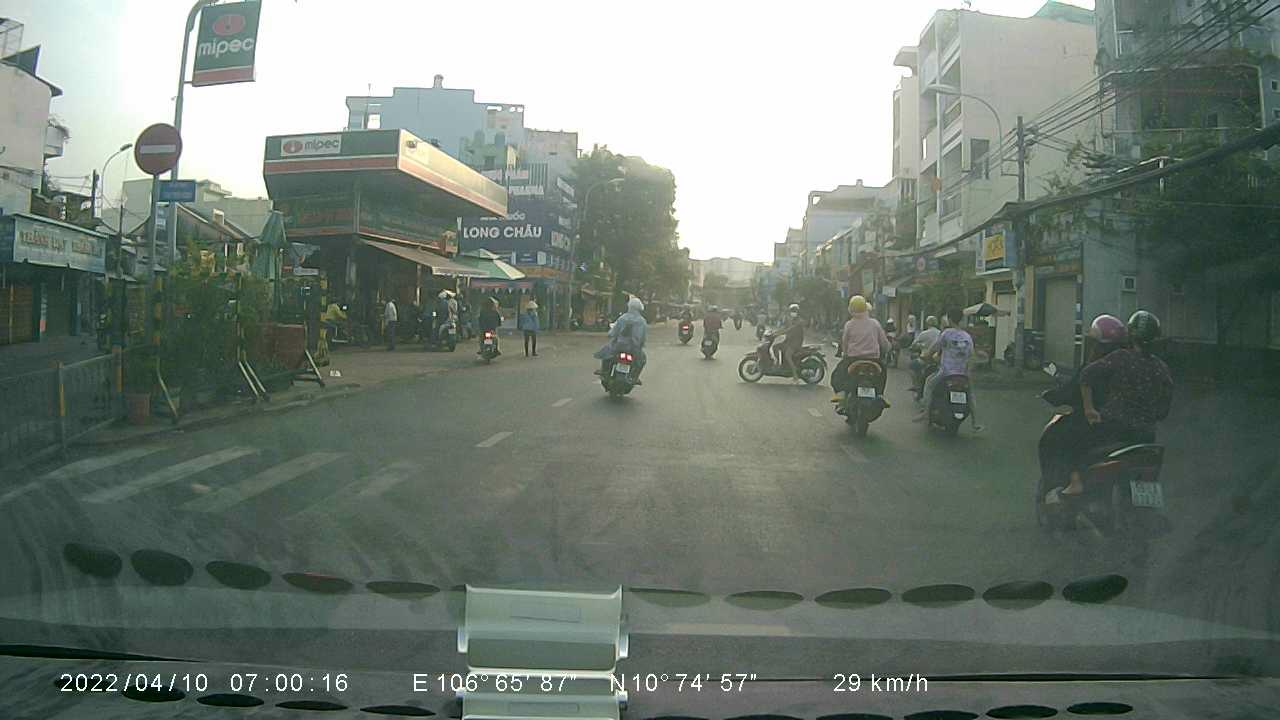Cam di nguoc chieu: (131, 120, 184, 173)
